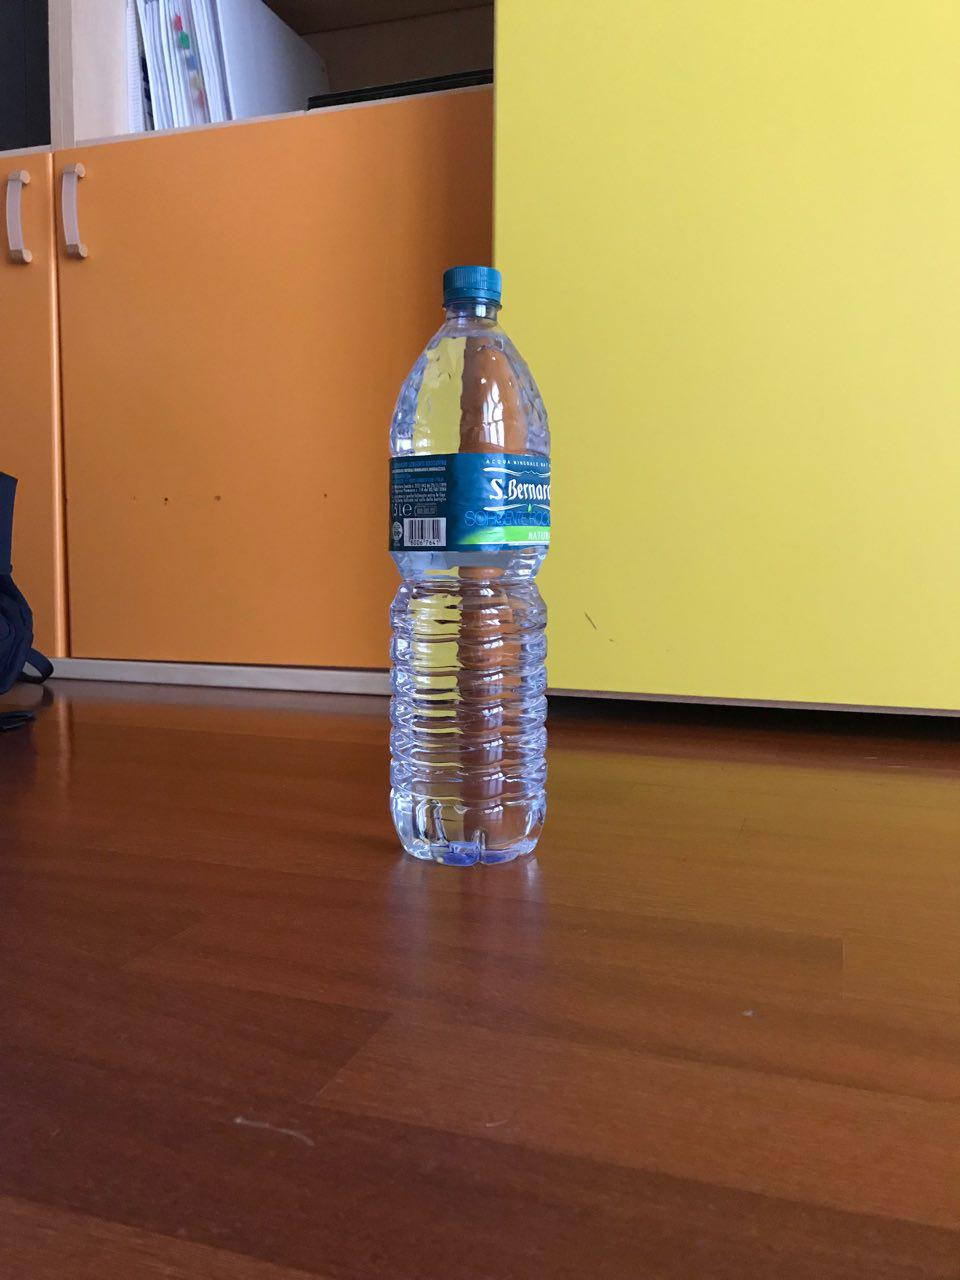san_bernardo: (387, 262, 553, 869)
